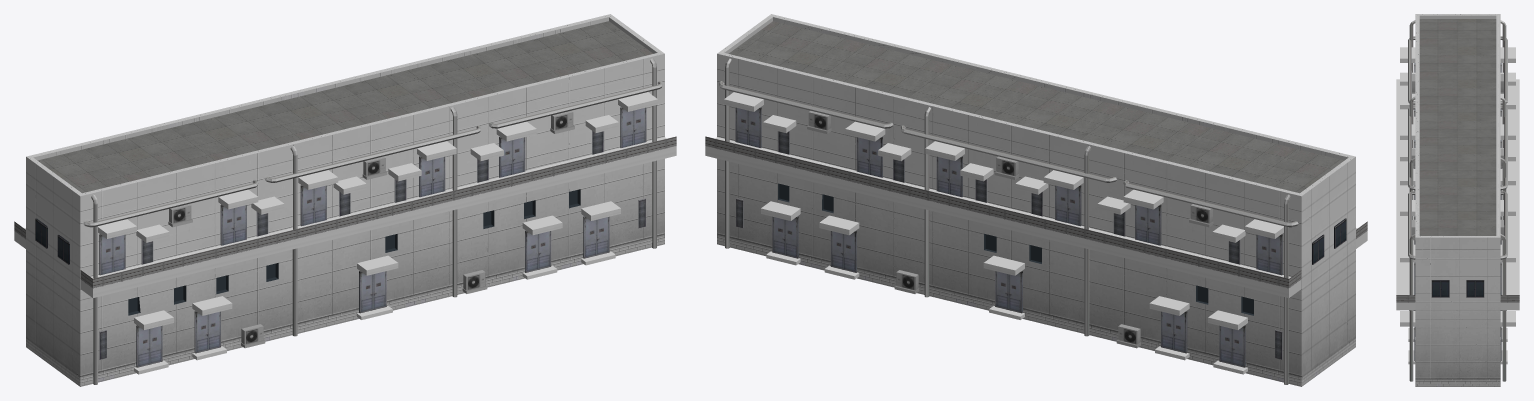
File: 配电室.glb
The picture shows the model from 3 angles, left to right: view 1: azimuth 30°, elevation 25°; view 2: azimuth 150°, elevation 25°; view 3: azimuth 270°, elevation 25°; orthographic projection. The views are drawn at different scales.
Visible parts, largest first — view 1: substation_ht_1005_03; view 2: substation_ht_1005_03; view 3: substation_ht_1005_03.
Boxes of the visible parts, left/top/right/bottom form: substation_ht_1005_03: left=14, top=14, right=676, bottom=386; substation_ht_1005_03: left=705, top=14, right=1367, bottom=386; substation_ht_1005_03: left=1396, top=14, right=1519, bottom=386.
Bounding box in the file's own units: 349 × 108 × 80.99.
Materials: 5 (5 with a texture image).
